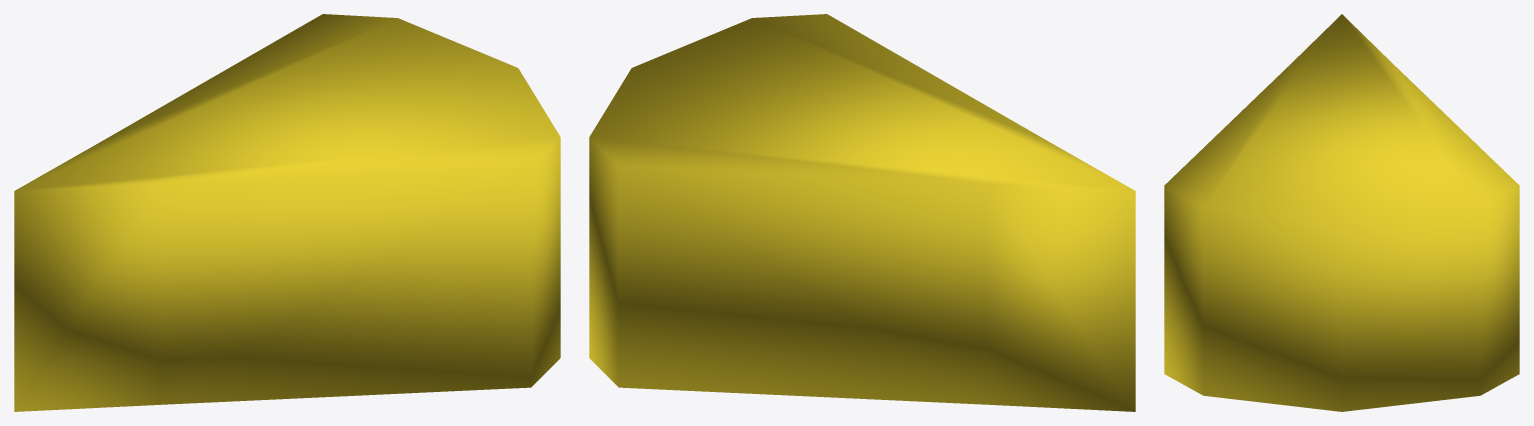
The model's file is Cheese.fbx.
3 views of the same model, side by side, from view 1: azimuth 30°, elevation 25°; view 2: azimuth 150°, elevation 25°; view 3: azimuth 270°, elevation 25° (orthographic). The views are drawn at different scales.
Visible parts, largest first — view 1: Cylinder; view 2: Cylinder; view 3: Cylinder.
Boxes of the visible parts, x1,y1,x2,y2 form: Cylinder: [14, 14, 560, 411]; Cylinder: [589, 14, 1135, 411]; Cylinder: [1164, 14, 1519, 411].
Bounding box in the file's own units: 253 × 106 × 181.
